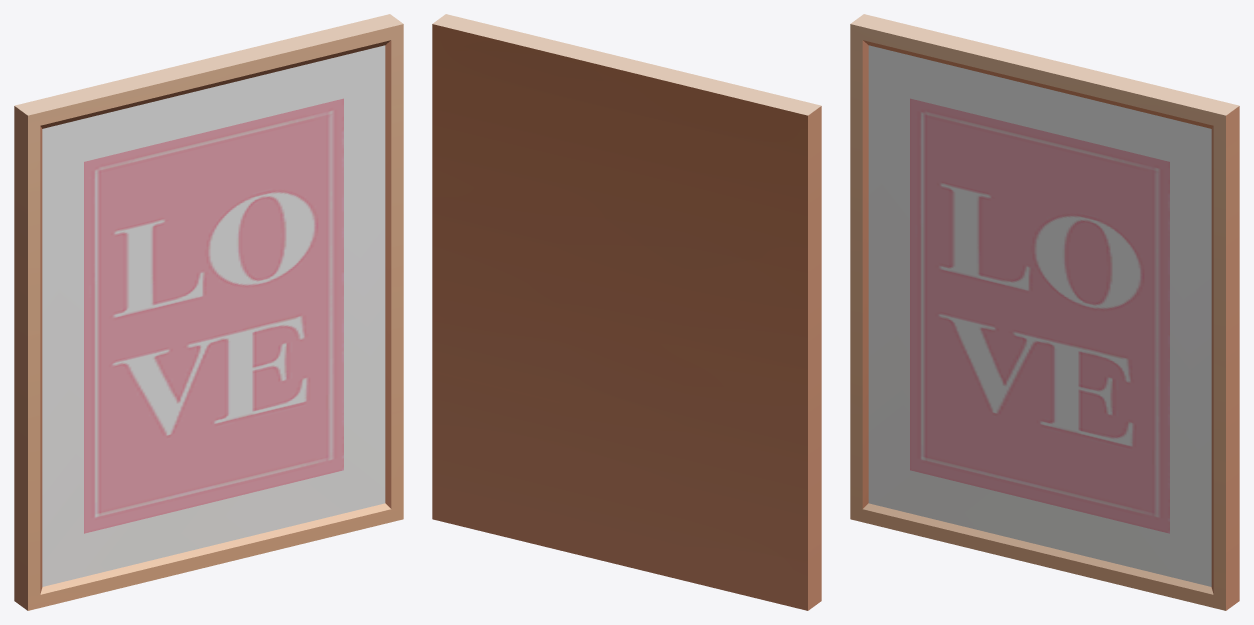
Rendered from Doll_OB_Frame_003.FBX.
3 views of the same model, side by side, from view 1: azimuth 30°, elevation 25°; view 2: azimuth 150°, elevation 25°; view 3: azimuth 330°, elevation 25° (orthographic).
Parts seen in each view (by area): view 1: Doll_OB_Frame_003; view 2: Doll_OB_Frame_003; view 3: Doll_OB_Frame_003.
Boxes of the visible parts, x1,y1,x2,y2 form: Doll_OB_Frame_003: (14,14,403,610); Doll_OB_Frame_003: (432,14,821,610); Doll_OB_Frame_003: (850,14,1239,610).
Size of the model in its own units: 24.14 by 30.4 by 1.52.
